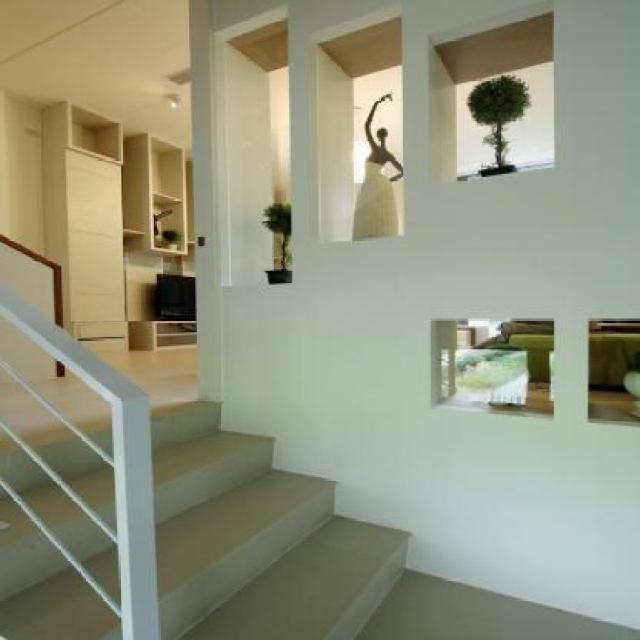stair: (0, 401, 640, 640)
